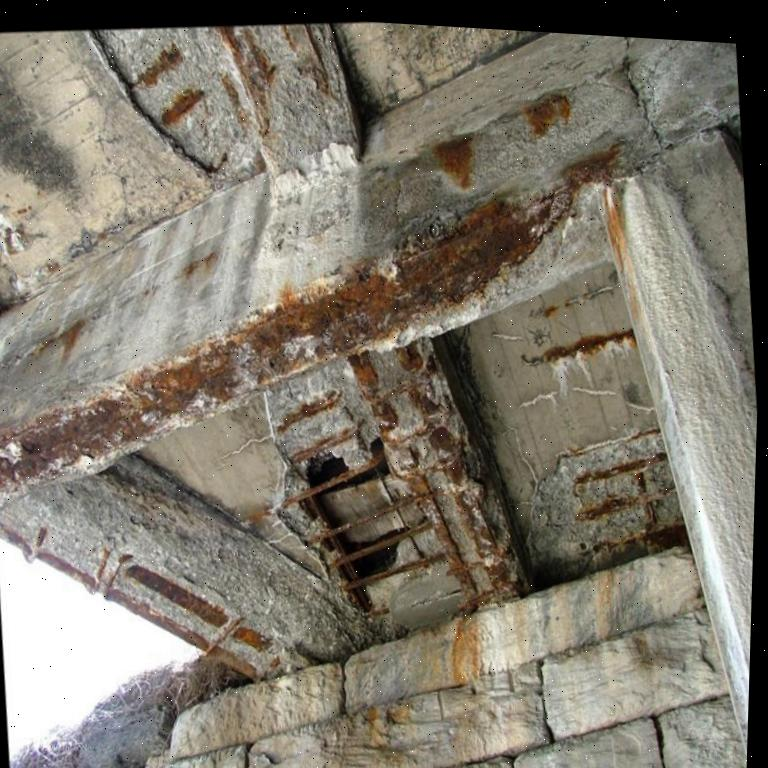spalling: (0, 457, 378, 678), (267, 339, 522, 627), (96, 23, 358, 188), (530, 430, 687, 586)
